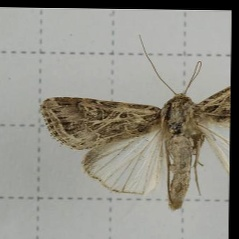Spodoptera litura: (39, 32, 230, 211)
